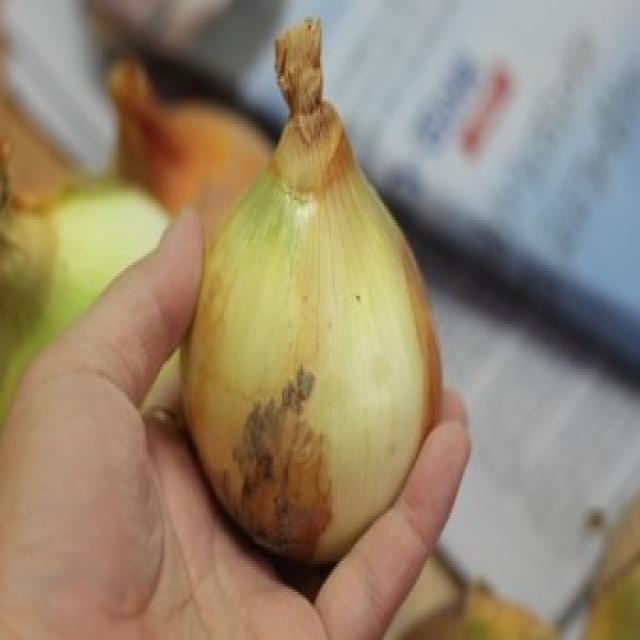onion: (156, 113, 470, 565)
